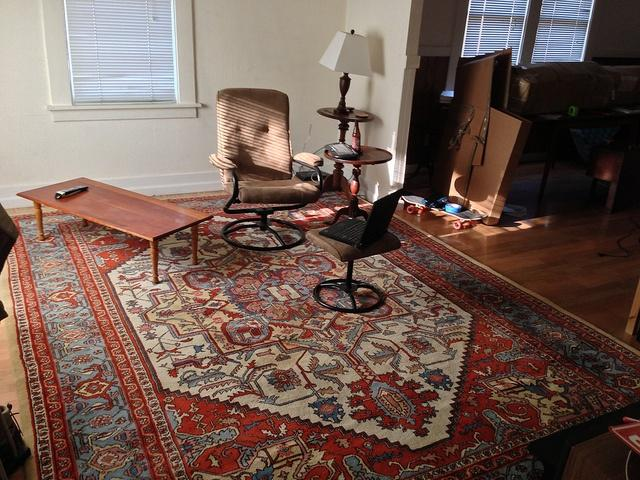Kursi: (208, 86, 323, 217)
Meja: (15, 176, 212, 283)
